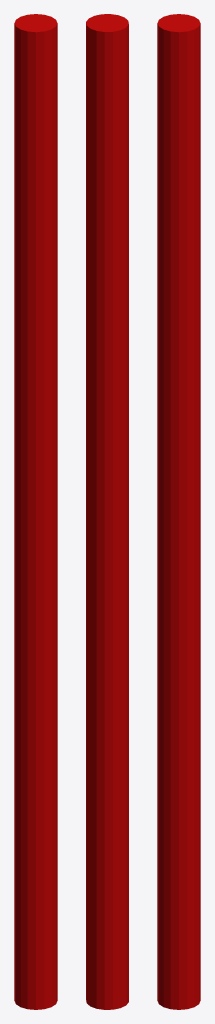
The model's file is shaft2_bl.obj.
3 renders of one model, left to right at view 1: azimuth 90°, elevation 25°; view 2: azimuth 150°, elevation 25°; view 3: azimuth 270°, elevation 25°, orthographic.
Bounding box in the file's own units: 0.03 × 0.75 × 0.03.
